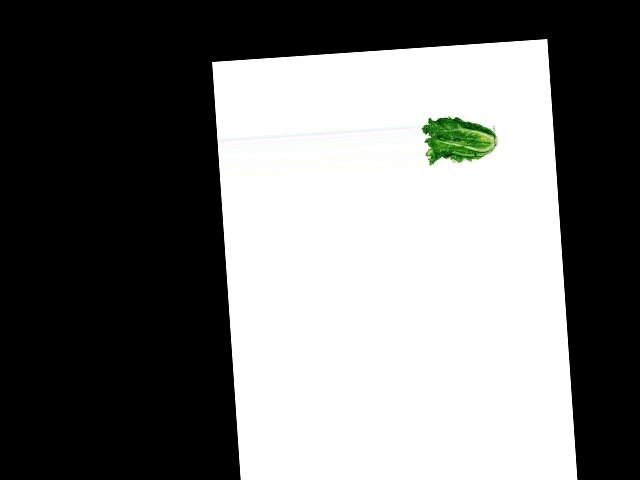lettuce: (421, 113, 497, 167)
